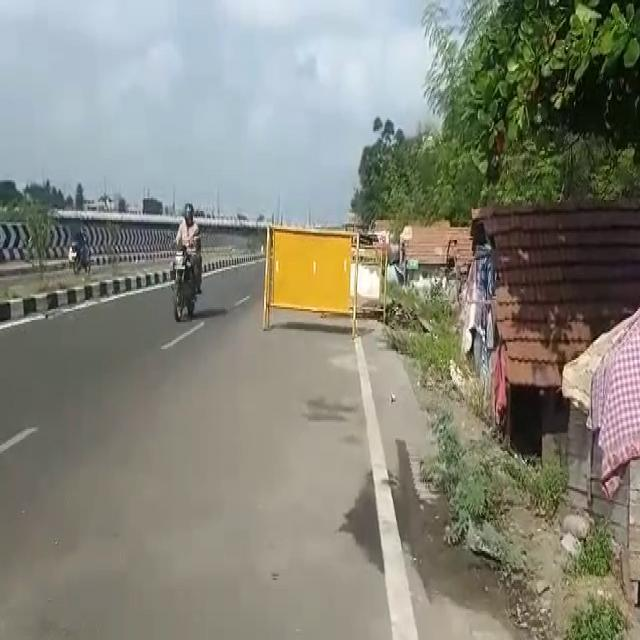fallen_object: (247, 216, 366, 354)
